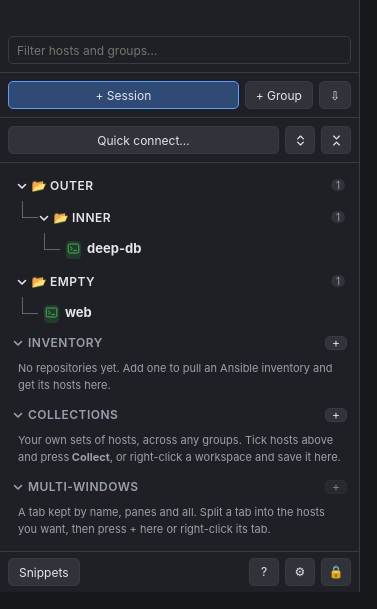
it: what the tree holds › keeps a folder whose match is two levels down, and drops its empty sibling
Type "deep" into the field with placeholder "Filter hosts and groups…" at (180, 50), box [8,36,351,64]
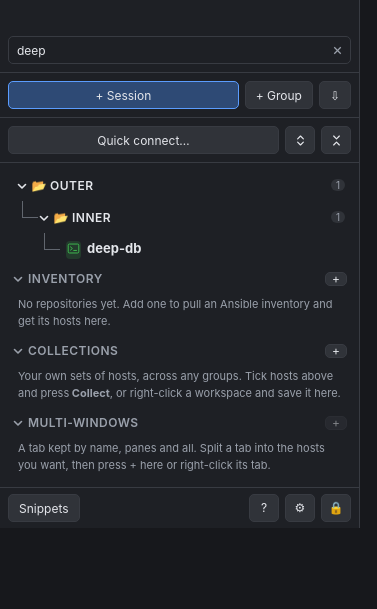
Expected: the text "outer" is shown, [50,178,94,192]
Expected: the text "empty" is gone
Expected: the text "web" is gone
